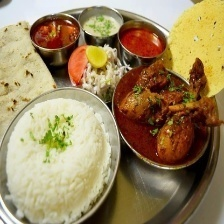rice: (6, 97, 111, 224)
